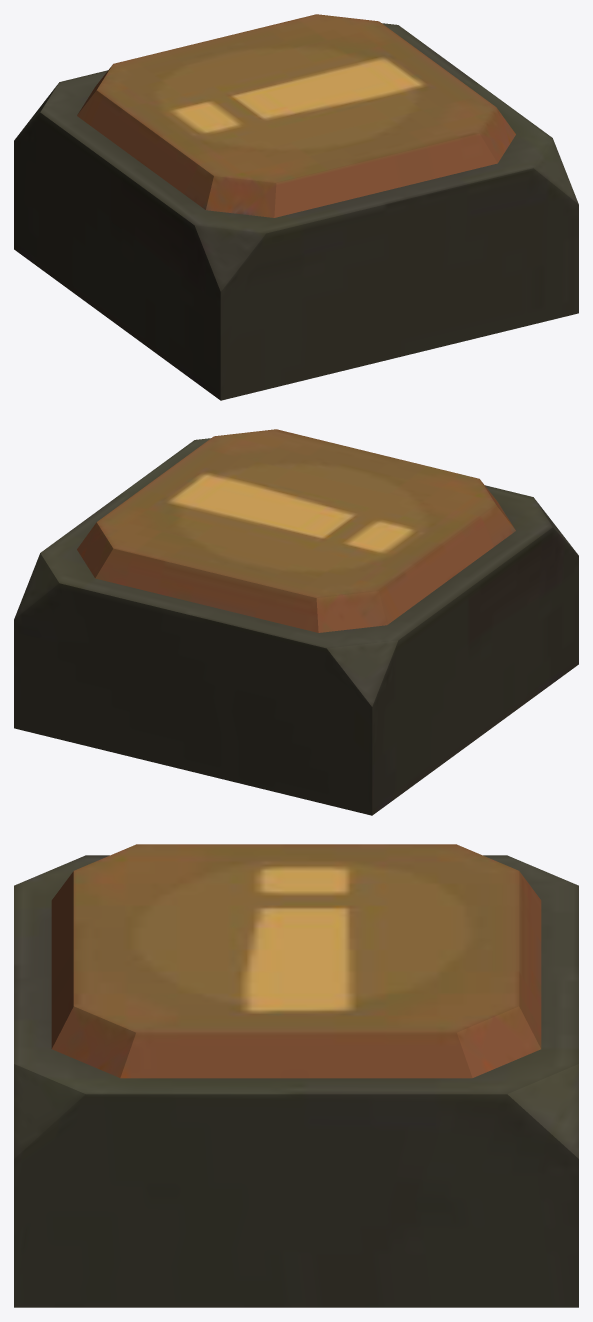
File: OBJ_Trigger_A.obj
The picture shows the model from 3 angles, top to bottom: view 1: azimuth 30°, elevation 25°; view 2: azimuth 150°, elevation 25°; view 3: azimuth 270°, elevation 25°; orthographic projection. The views are drawn at different scales.
Visible parts, largest first — view 1: OBJ_Trigger_A_01, OBJ_Trigger_A_02; view 2: OBJ_Trigger_A_01, OBJ_Trigger_A_02; view 3: OBJ_Trigger_A_01, OBJ_Trigger_A_02.
Boxes of the visible parts, x1,y1,x2,y2 form: OBJ_Trigger_A_01: (14,23,578,400); OBJ_Trigger_A_02: (77,14,515,217); OBJ_Trigger_A_01: (14,438,578,815); OBJ_Trigger_A_02: (77,429,515,632); OBJ_Trigger_A_01: (14,855,578,1307); OBJ_Trigger_A_02: (51,844,541,1078).
Bounding box in the file's own units: 1.2 × 0.5849 × 1.2.
1 material, 1 textured.
